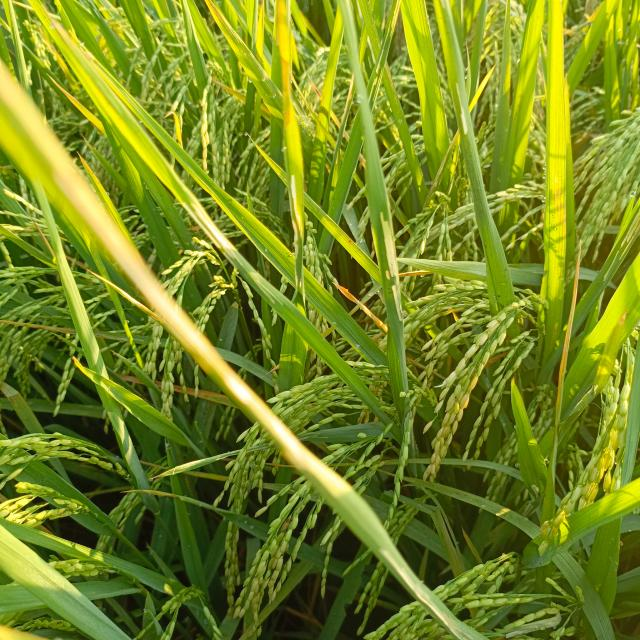Brown spot: (559, 237, 587, 358), (329, 280, 365, 306), (554, 359, 569, 420)
brown plant hopper: (169, 185, 247, 272), (280, 182, 312, 296)
